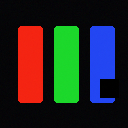1 square: (100, 79, 118, 97)
